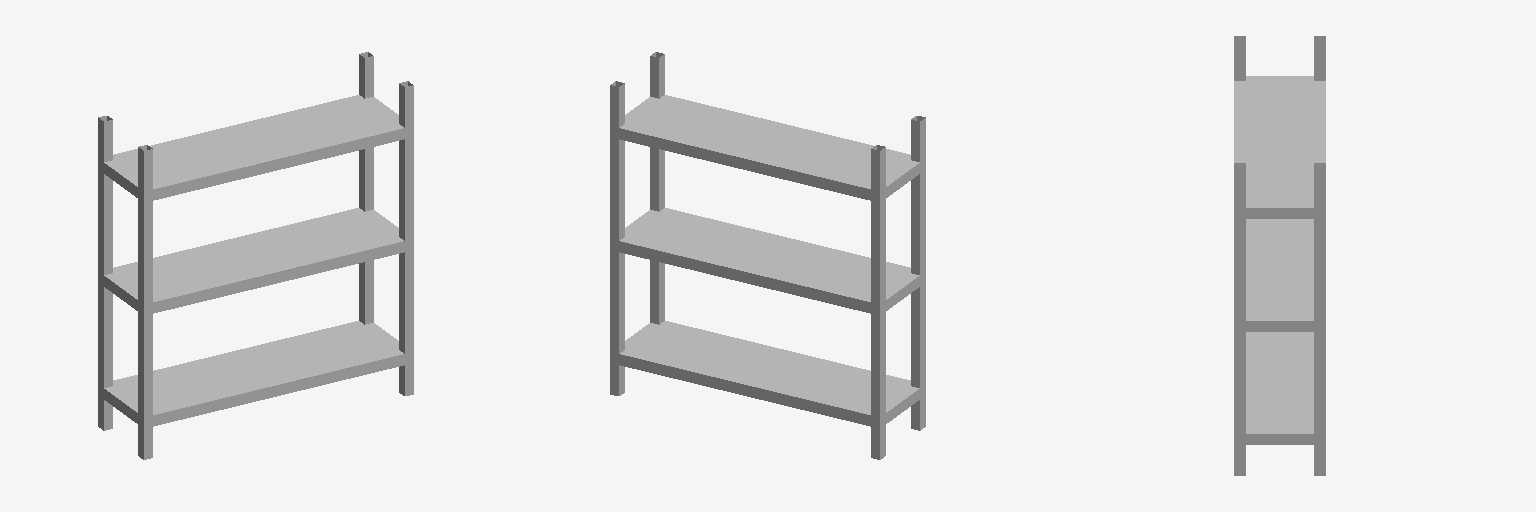
The model's file is Repisa.obj.
3 views of the same model, side by side, from view 1: azimuth 30°, elevation 25°; view 2: azimuth 150°, elevation 25°; view 3: azimuth 270°, elevation 25° (orthographic).
Parts seen in each view (by area): view 1: Cubo; view 2: Cubo; view 3: Cubo.
Part boxes in pixels (left/top/right/bottom): Cubo: left=98, top=52, right=413, bottom=459; Cubo: left=610, top=52, right=925, bottom=459; Cubo: left=1234, top=36, right=1325, bottom=475.
Size of the model in its own units: 3 by 3.29 by 0.88.